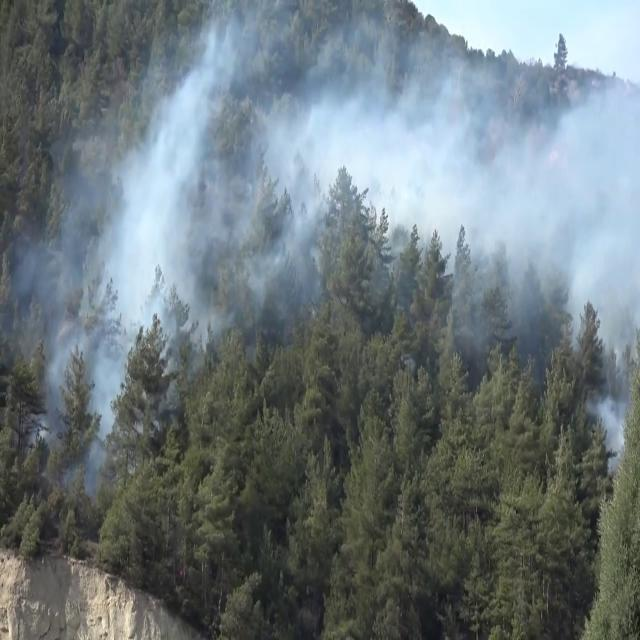Smoke: (350, 92, 616, 172), (467, 128, 624, 225), (557, 185, 638, 262), (132, 175, 151, 276)
